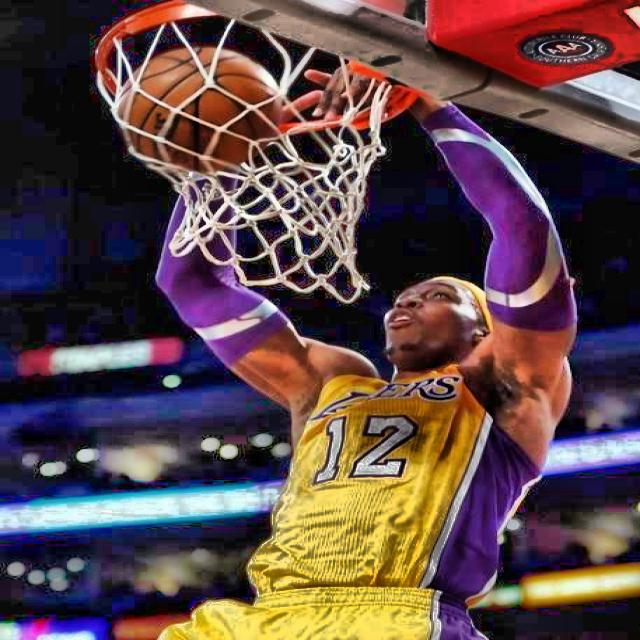rim: (98, 1, 392, 302)
